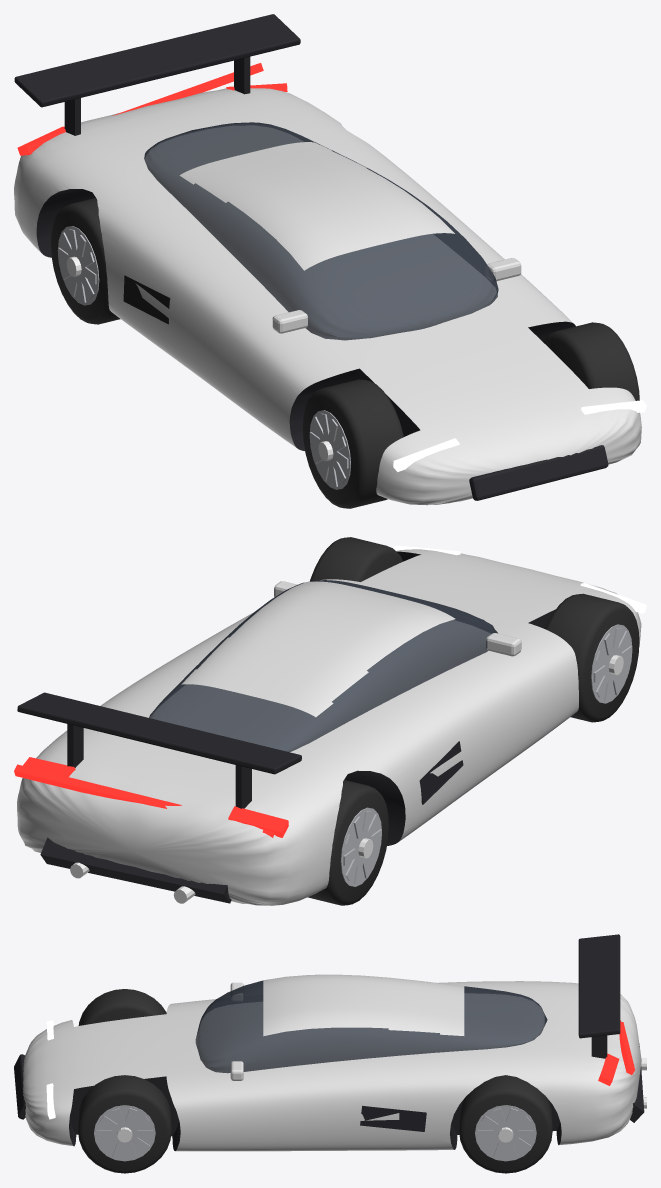
The model's file is raptor.glb.
3 renders of one model, top to bottom at view 1: azimuth 30°, elevation 25°; view 2: azimuth 150°, elevation 25°; view 3: azimuth 270°, elevation 25°, orthographic. The views are drawn at different scales.
Visible parts, largest first — view 1: Car, Wheel_FL, Wheel_FR, Wheel_RL, Rim.002, Rim; view 2: Car, Wheel_FL, Wheel_RL, Wheel_FR, Rim, Rim.002; view 3: Car, Wheel_FR, Wheel_RR, Wheel_FL, Rim.001, Rim.003.
Boxes of the visible parts, x1,y1,x2,y2 form: Car: (14, 14, 646, 505); Wheel_FL: (302, 379, 403, 508); Wheel_FR: (542, 322, 639, 400); Wheel_RL: (50, 198, 120, 324); Rim.002: (57, 226, 99, 305); Rim: (309, 410, 350, 489); Car: (14, 545, 646, 905); Wheel_FL: (545, 593, 639, 722); Wheel_RL: (307, 780, 388, 905); Wheel_FR: (310, 537, 402, 581); Rim: (591, 624, 632, 703); Rim.002: (340, 807, 381, 886); Car: (14, 934, 646, 1151); Wheel_FR: (78, 1075, 171, 1173); Wheel_RR: (459, 1075, 552, 1173); Wheel_FL: (78, 989, 166, 1025); Rim.001: (94, 1105, 155, 1161); Rim.003: (475, 1105, 536, 1161).
Size of the model in its own units: 2.01 by 1.2 by 4.86.
